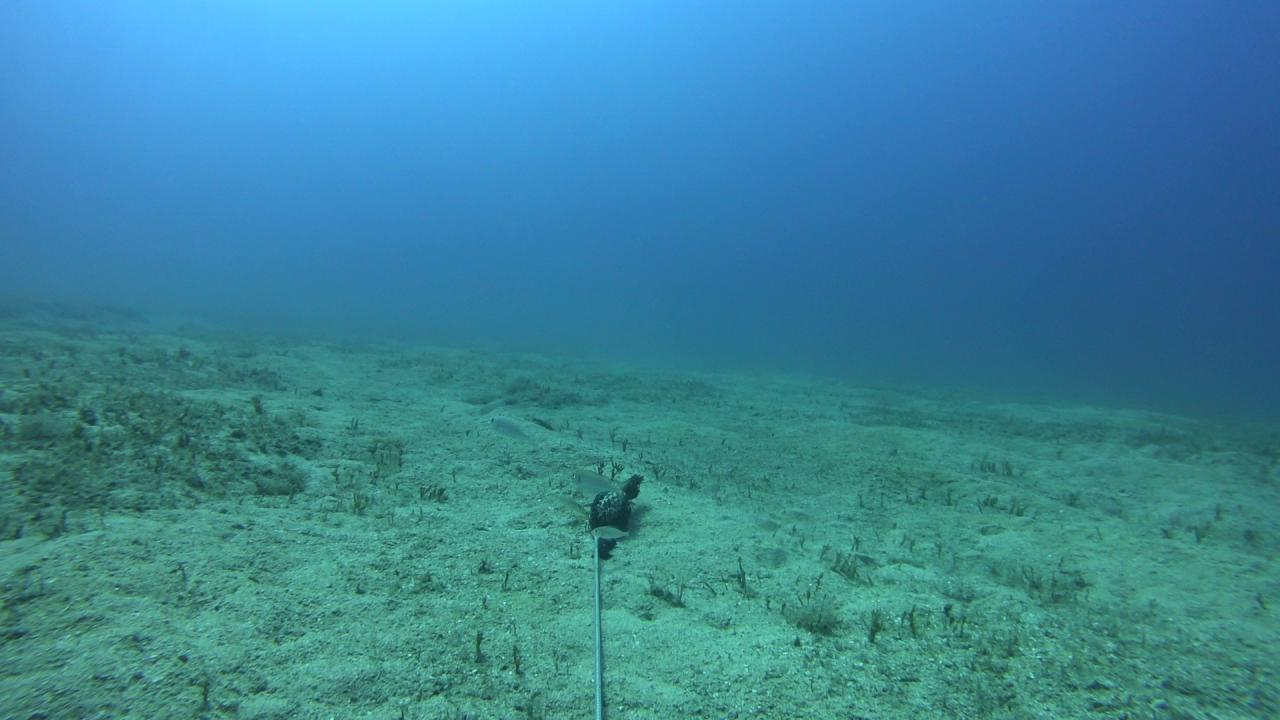pagellus: (573, 469, 630, 500), (486, 416, 536, 447), (590, 524, 629, 540)
